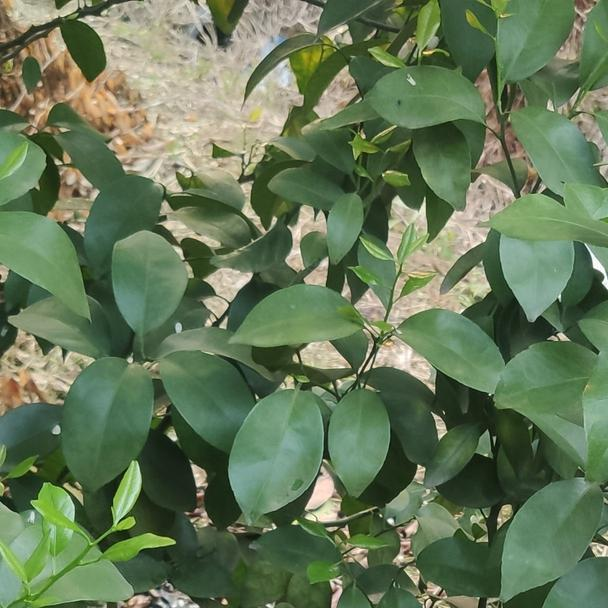shoot: (7, 473, 160, 607), (351, 230, 441, 323)
